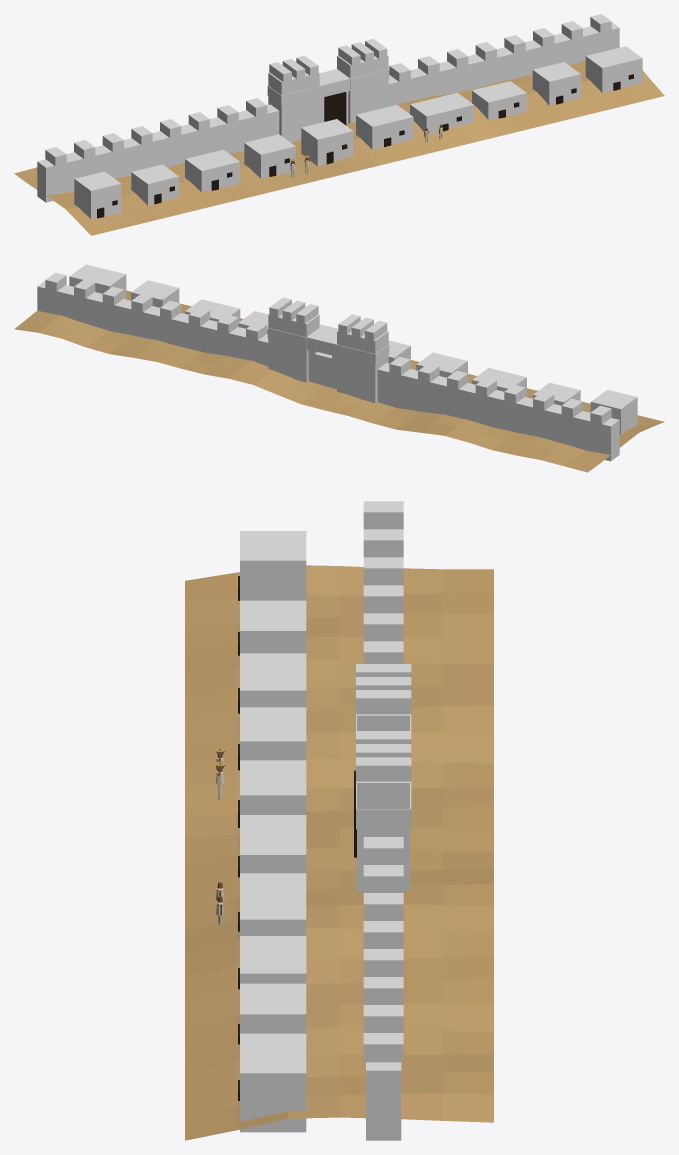
Rendered from mesopotamia_bg_mid.fbx.
3 renders of one model, top to bottom at view 1: azimuth 30°, elevation 25°; view 2: azimuth 150°, elevation 25°; view 3: azimuth 270°, elevation 25°, orthographic. The views are drawn at different scales.
Visible parts, largest first — view 1: mesopotamia_bg_mid; view 2: mesopotamia_bg_mid; view 3: mesopotamia_bg_mid.
Part boxes in pixels (left/top/right/bottom): mesopotamia_bg_mid: left=14, top=14, right=664, bottom=235; mesopotamia_bg_mid: left=14, top=264, right=664, bottom=472; mesopotamia_bg_mid: left=185, top=501, right=493, bottom=1140.
Size of the model in its own units: 60 by 7.3 by 14.
